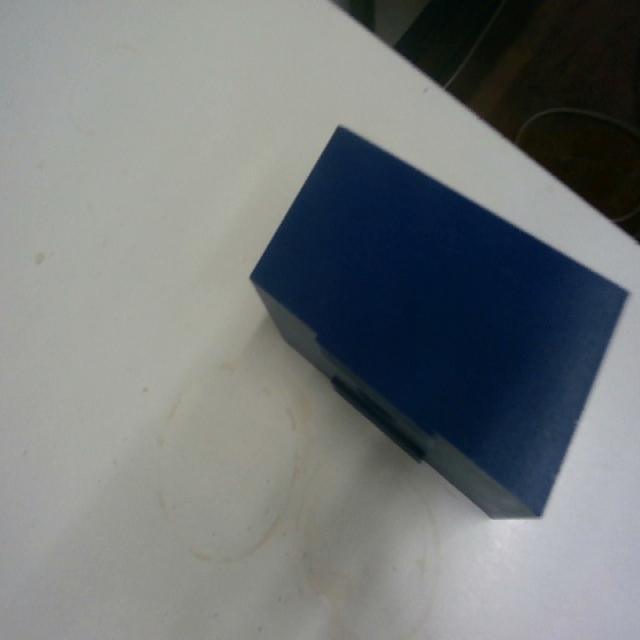Blue Cuboid: (247, 120, 631, 521)
